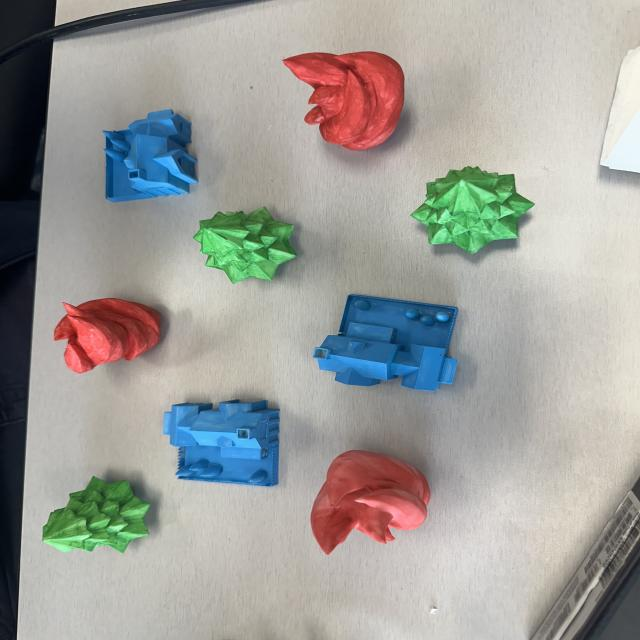fire: (311, 449, 431, 557), (282, 51, 405, 152), (54, 297, 165, 373)
house: (313, 293, 462, 393), (164, 399, 283, 488), (102, 108, 199, 203)
tree: (413, 166, 537, 255), (42, 474, 154, 552), (194, 206, 299, 285)
